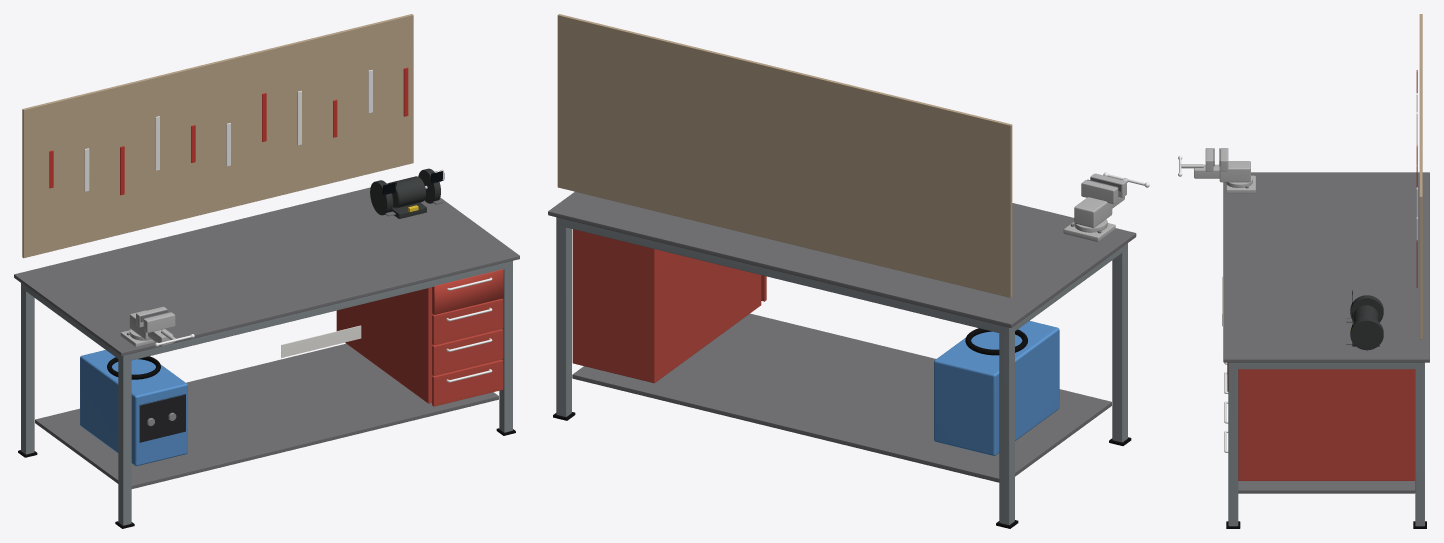
Rendered from industrial.workshop.repair_pro.glb.
The picture shows the model from 3 angles, left to right: view 1: azimuth 30°, elevation 25°; view 2: azimuth 150°, elevation 25°; view 3: azimuth 270°, elevation 25°; orthographic projection. The views are drawn at different scales.
Parts seen in each view (by area): view 1: main__galv_777, main__paint_ca8, main__paint_c44, main__paint_889, main__paint_59c, main__paint_333, main__chrome_eee, main__paint_222, main__galv_bbb, main__paint_c33, main__paint_eee, main__rubber; view 2: main__paint_ca8, main__galv_777, main__paint_c44, main__paint_889, main__paint_59c, main__galv_bbb, main__rubber; view 3: main__galv_777, main__paint_c44, main__paint_889, main__galv_bbb, main__paint_333, main__paint_ca8, main__chrome_eee.
Boxes of the visible parts, <box> form: main__galv_777: <box>14,183,519,488</box>; main__paint_ca8: <box>22,14,413,258</box>; main__paint_c44: <box>336,269,503,406</box>; main__paint_889: <box>21,261,512,525</box>; main__paint_59c: <box>80,350,187,466</box>; main__paint_333: <box>370,168,440,218</box>; main__chrome_eee: <box>84,69,492,382</box>; main__paint_222: <box>139,394,185,442</box>; main__galv_bbb: <box>120,306,175,347</box>; main__paint_c33: <box>49,67,408,195</box>; main__paint_eee: <box>281,325,361,357</box>; main__rubber: <box>18,356,515,528</box>; main__paint_ca8: <box>557,14,1012,297</box>; main__galv_777: <box>548,191,1136,482</box>; main__paint_c44: <box>572,229,766,383</box>; main__paint_889: <box>556,217,1127,524</box>; main__paint_59c: <box>934,321,1059,455</box>; main__galv_bbb: <box>1063,173,1126,241</box>; main__rubber: <box>553,328,1131,528</box>; main__galv_777: <box>1223,172,1429,493</box>; main__paint_c44: <box>1227,362,1415,480</box>; main__paint_889: <box>1228,362,1424,526</box>; main__galv_bbb: <box>1194,148,1255,193</box>; main__paint_333: <box>1350,295,1383,350</box>; main__paint_ca8: <box>1419,14,1422,339</box>; main__chrome_eee: <box>1178,93,1417,452</box>.
Bounding box in the file's own units: 2.25 × 1.86 × 1.28.
